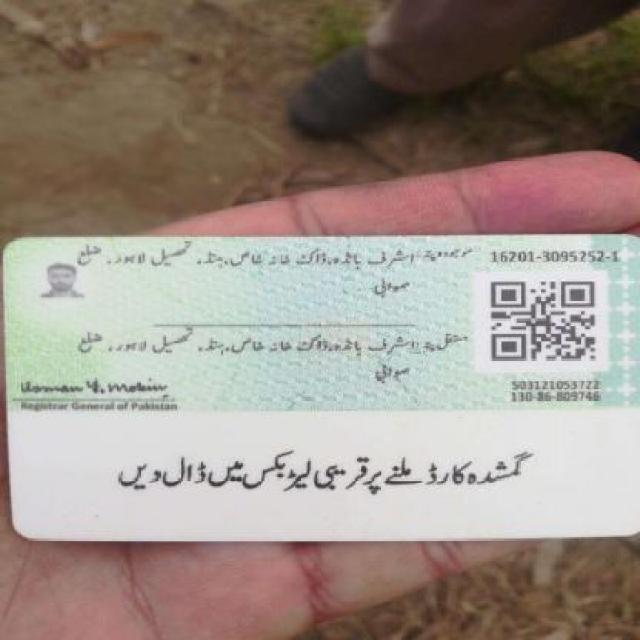Back: (3, 229, 639, 548)
